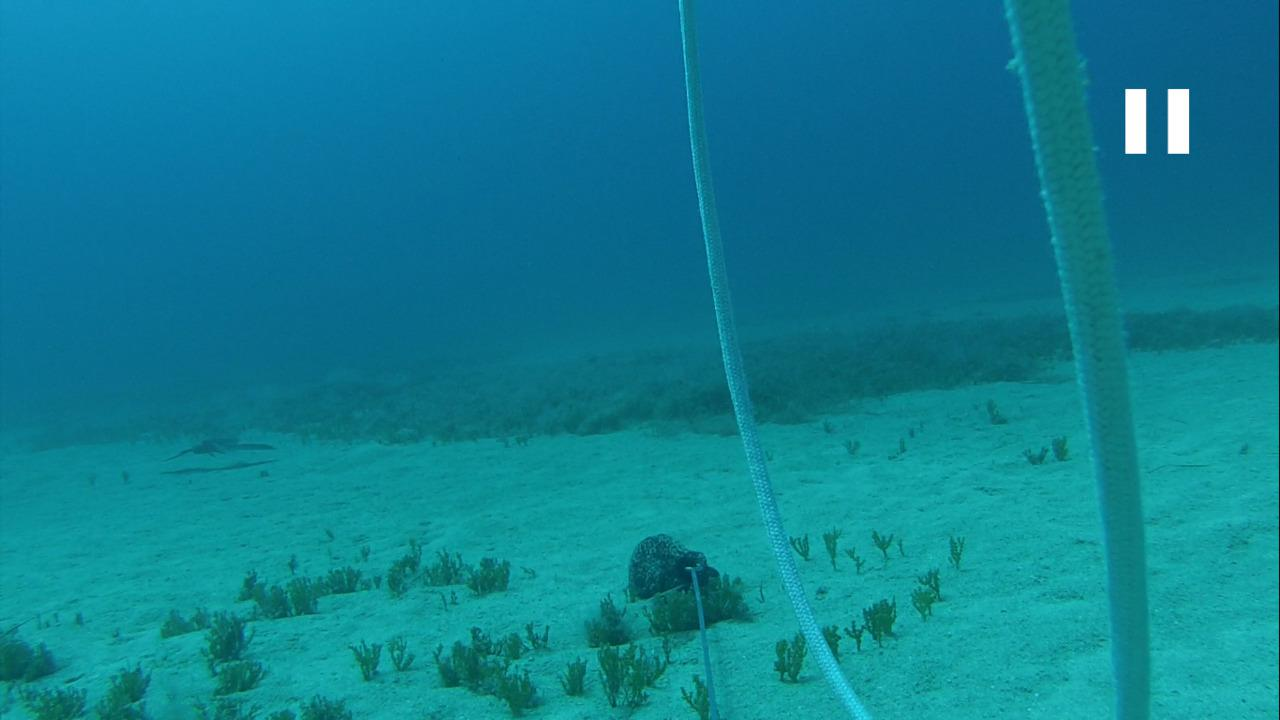dactylopterus: (165, 421, 282, 467)
